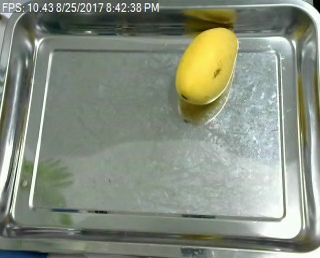Mango: (175, 19, 240, 103)
